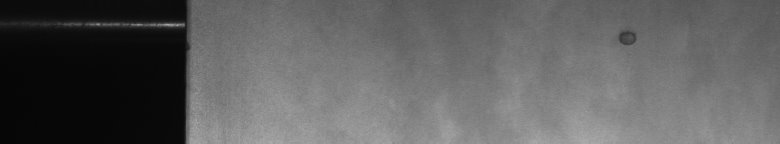fi: (613, 23, 640, 52)
